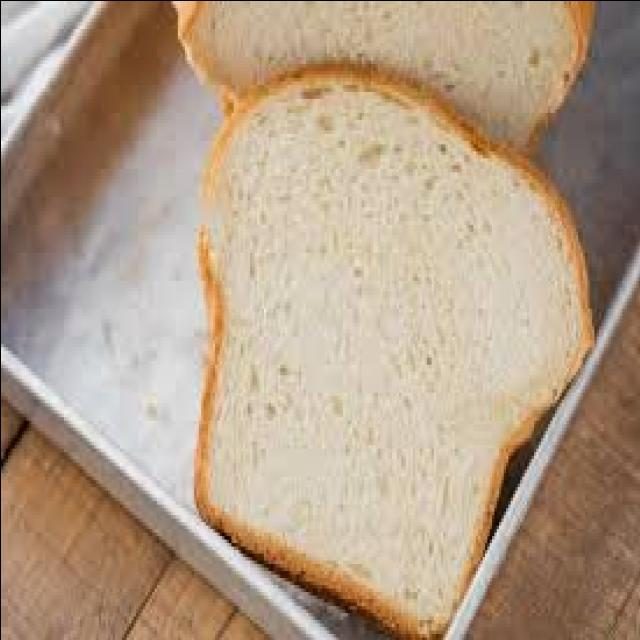roti tawar: (189, 59, 593, 640)
